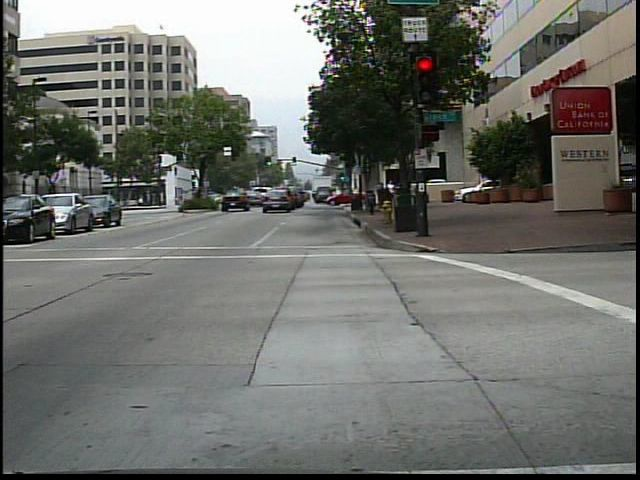person: (171, 193, 182, 209)
